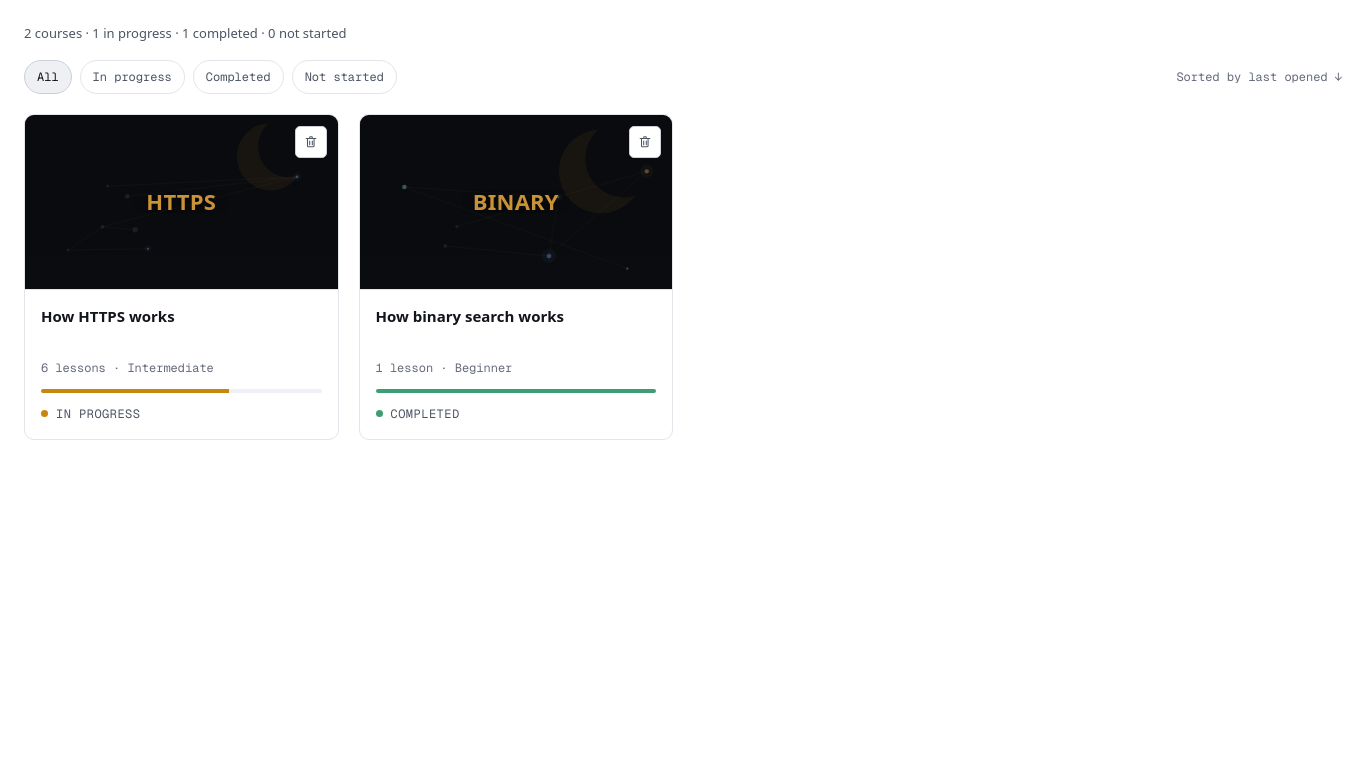
CourseLibrary › keeps the dialog open with the reason when the delete 409s (still building)
Expected: the link "HTTPS How HTTPS works 6 lessons · Intermediate IN PROGRESS" is shown, x1=24 y1=114 x2=338 y2=440
Click the button named "delete course: how https works": (310, 142) x1=294 y1=126 x2=326 y2=158
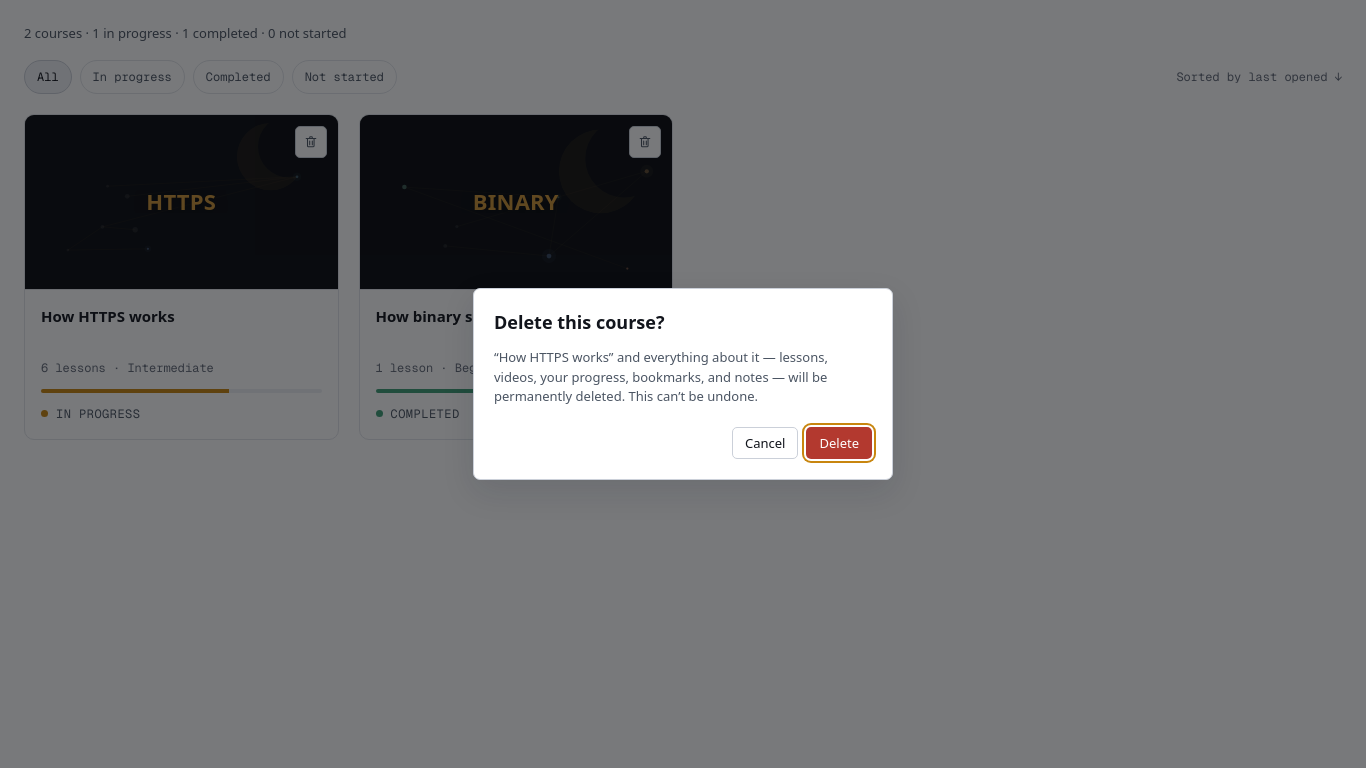
Click the button "Delete": (839, 443) x1=806 y1=427 x2=872 y2=459
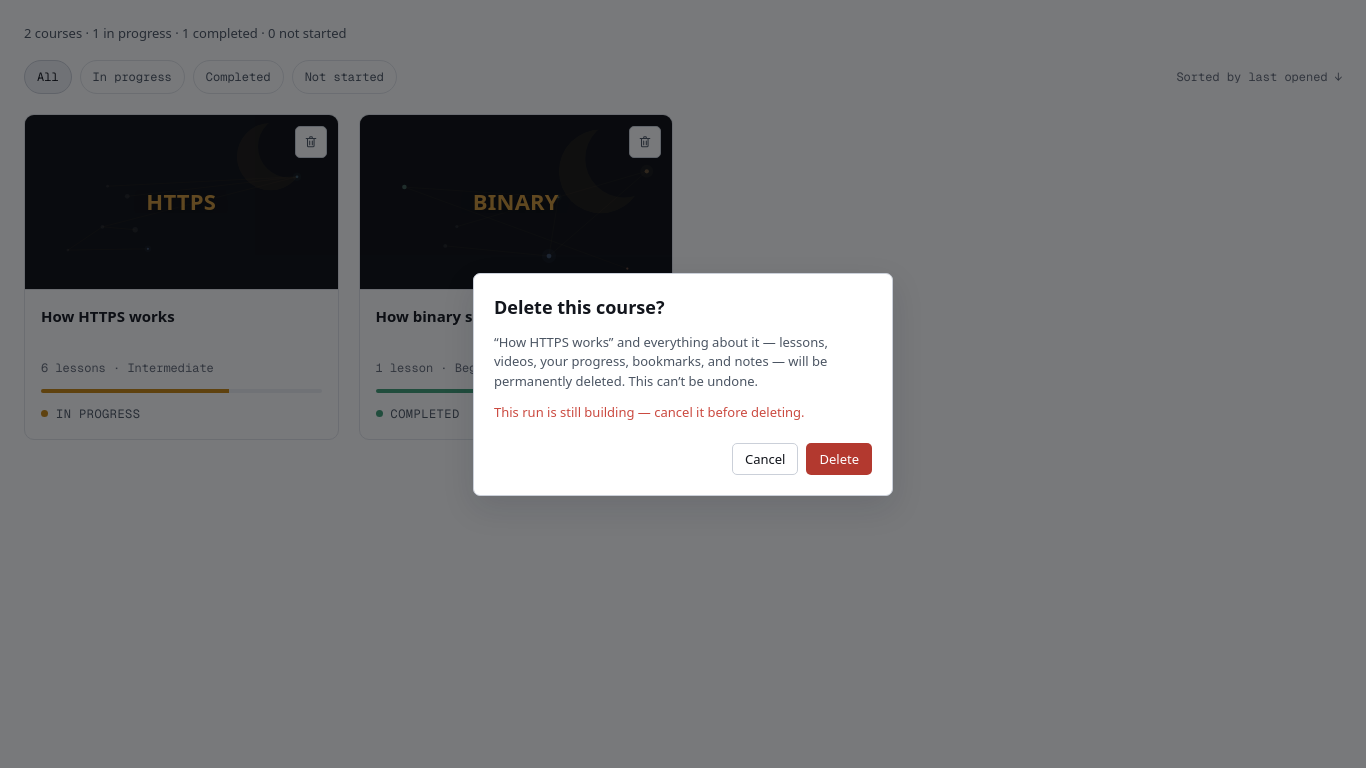
Expected: the link "HTTPS How HTTPS works 6 lessons · Intermediate IN PROGRESS" is shown, x1=24 y1=114 x2=338 y2=440
Expected: the dialog is shown, x1=473 y1=272 x2=893 y2=496
Expected: the text "This run is still building — cancel it before deleting." is shown, x1=494 y1=403 x2=805 y2=421
